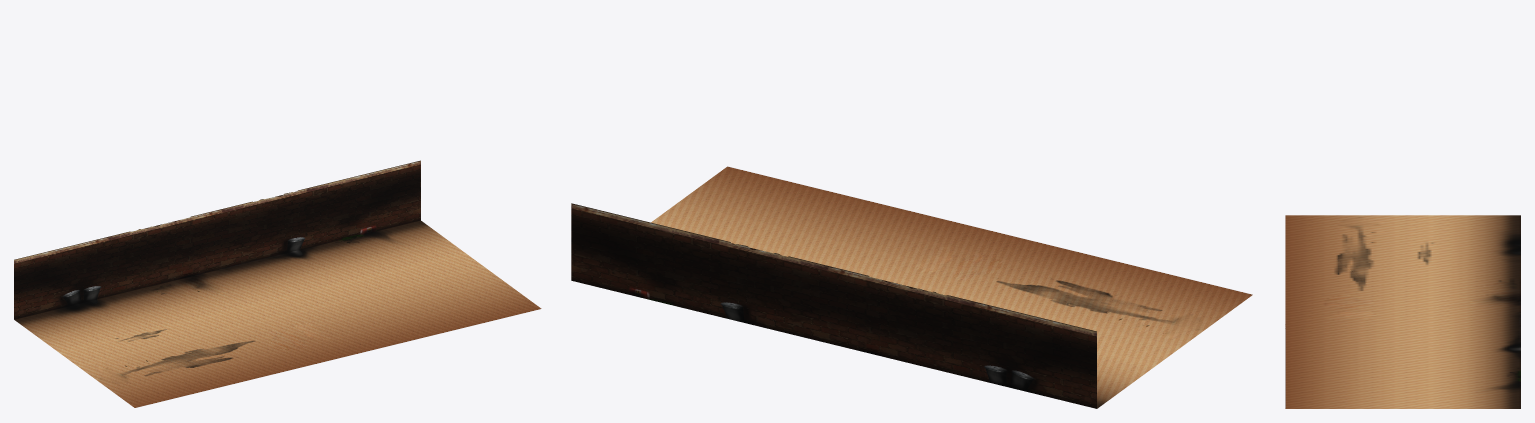
File: background 2.FBX
The picture shows the model from 3 angles, left to right: view 1: azimuth 30°, elevation 25°; view 2: azimuth 150°, elevation 25°; view 3: azimuth 270°, elevation 25°; orthographic projection. The views are drawn at different scales.
Parts seen in each view (by area): view 1: Plane002; view 2: Plane002; view 3: Plane002.
Boxes of the visible parts, box(x1,y1,x2,y2) form: Plane002: box(14, 160, 541, 407); Plane002: box(571, 166, 1252, 408); Plane002: box(1285, 215, 1520, 408).
Bounding box in the file's own units: 1.26 × 0.6096 × 0.6526.
Materials: 1 (1 with a texture image).
